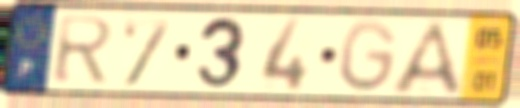3: (194, 13, 248, 93)
4: (257, 15, 315, 94)
7: (119, 13, 174, 89)
A: (387, 18, 468, 99)
G: (337, 17, 401, 96)
R: (50, 14, 118, 87)
